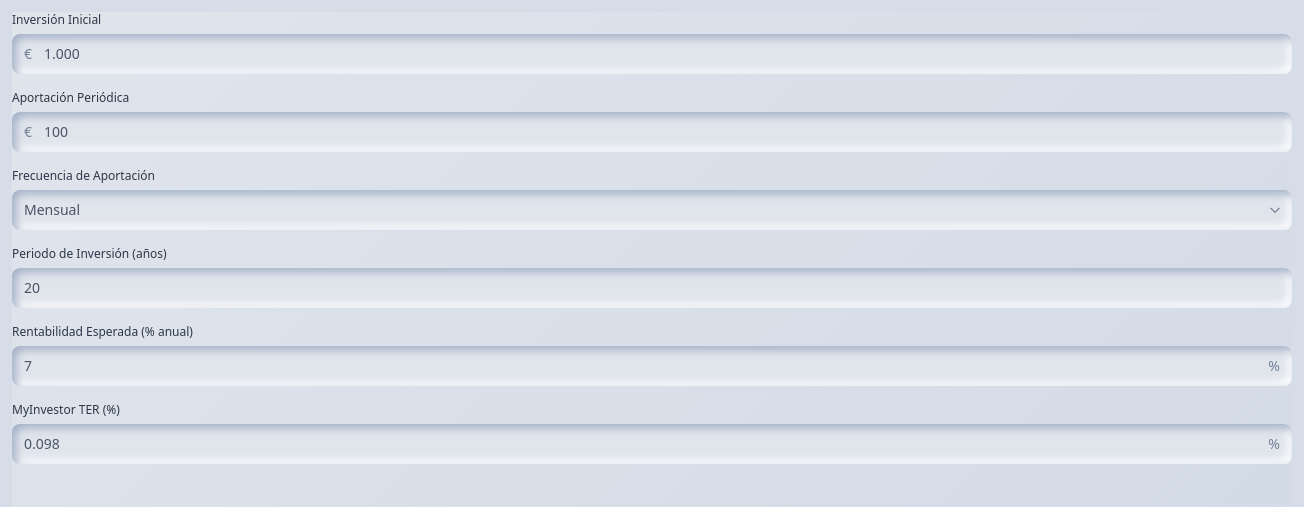
Test: SimulatorForm numeric input validation › should show error when TER is above maximum (0.59)
This screenshot has width=1304, height=507.
Replace the text in the number field labelled "MyInvestor TER (%)" with "0.80" at (652, 444), box [12,424,1292,464]
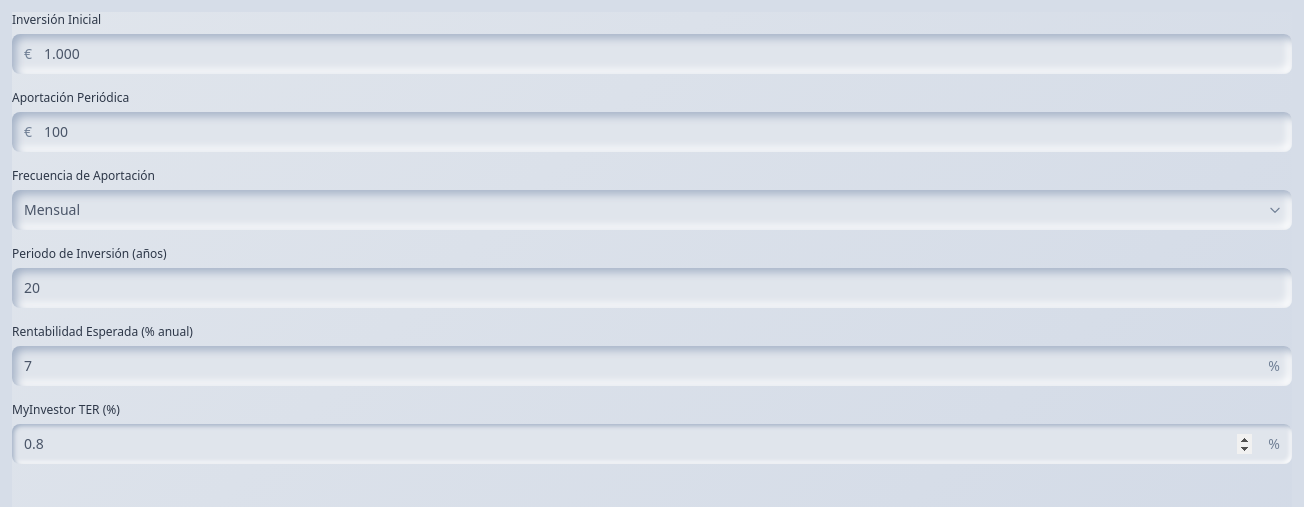
Press Tab
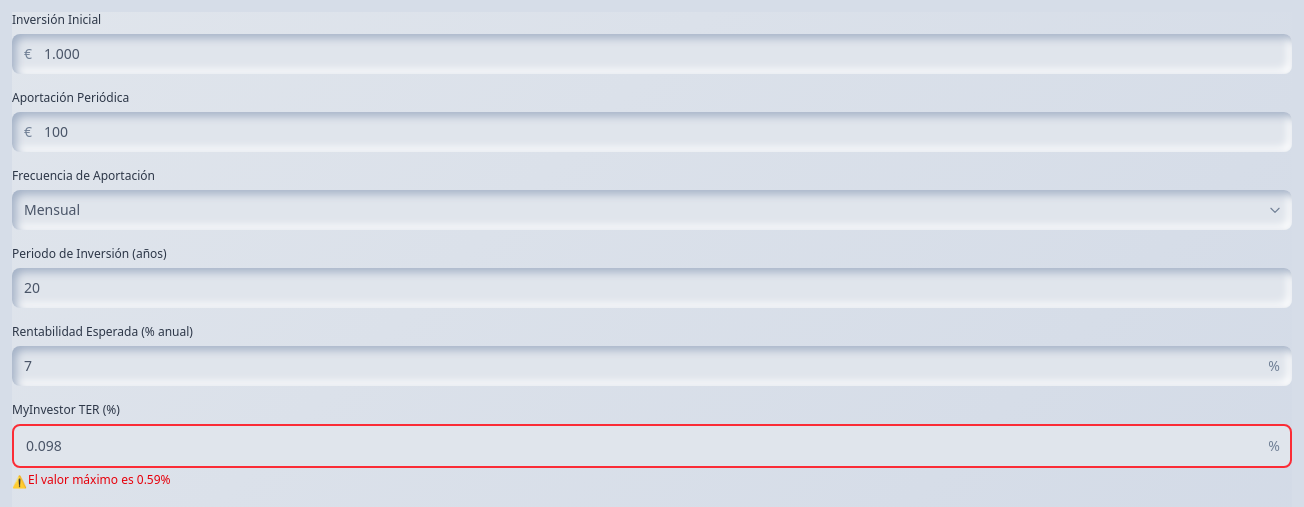
Check: the text "⚠ El valor máximo es 0.59%" is shown, box [12,471,171,490]
